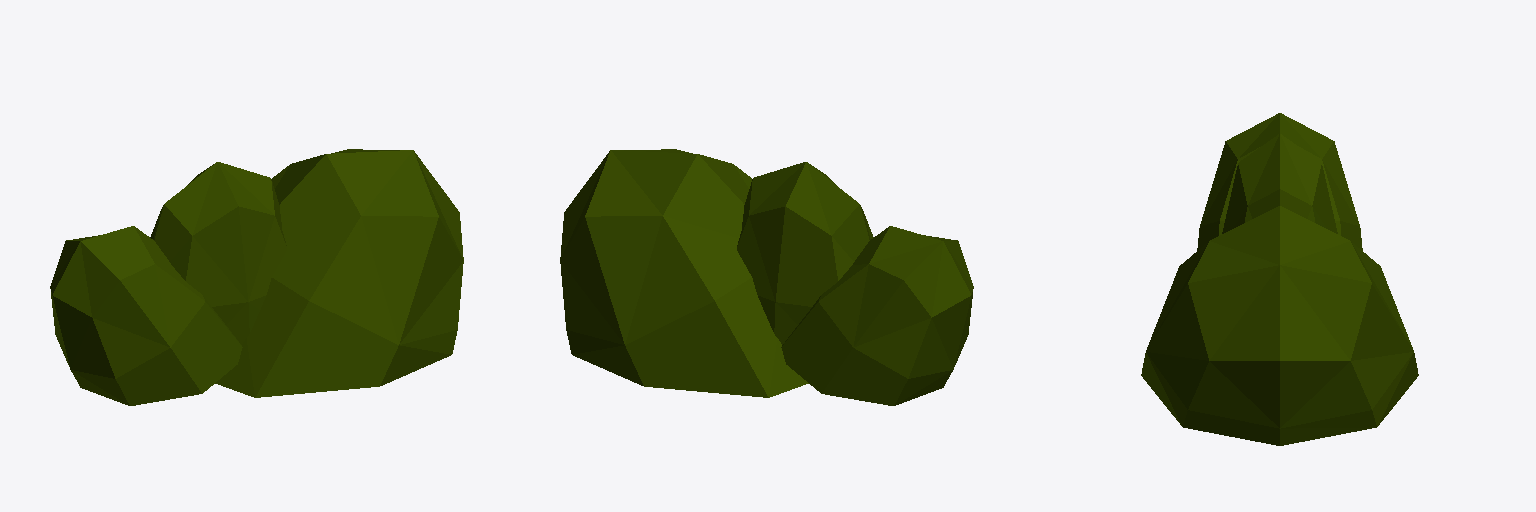
File: Grass_3.obj
3 renders of one model, left to right at view 1: azimuth 30°, elevation 25°; view 2: azimuth 150°, elevation 25°; view 3: azimuth 270°, elevation 25°, orthographic.
Visible parts, largest first — view 1: Grass_3_Cube.214; view 2: Grass_3_Cube.214; view 3: Grass_3_Cube.214.
Boxes of the visible parts, x1=… form: Grass_3_Cube.214: x1=50, y1=149, x2=463, y2=405; Grass_3_Cube.214: x1=560, y1=149, x2=973, y2=405; Grass_3_Cube.214: x1=1141, y1=113, x2=1418, y2=445.
Bounding box in the file's own units: 1.07 × 0.5221 × 0.6324.